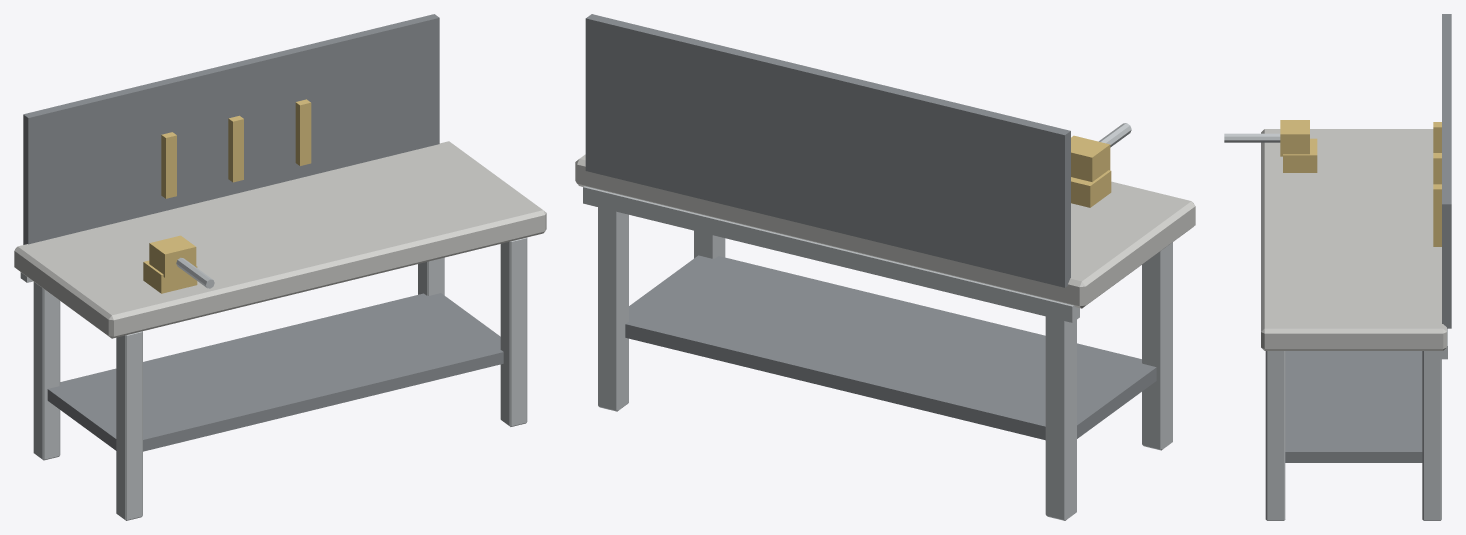
Rendered from P_workbench_v2.fbx.
3 views of the same model, side by side, from view 1: azimuth 30°, elevation 25°; view 2: azimuth 150°, elevation 25°; view 3: azimuth 270°, elevation 25° (orthographic). The views are drawn at different scales.
Parts seen in each view (by area): view 1: P_workbench_v2; view 2: P_workbench_v2; view 3: P_workbench_v2.
Boxes of the visible parts, <box> form: P_workbench_v2: <box>14,14,546,520</box>; P_workbench_v2: <box>575,14,1195,520</box>; P_workbench_v2: <box>1224,14,1451,520</box>.
Bounding box in the file's own units: 1.96 × 1.44 × 0.93.
